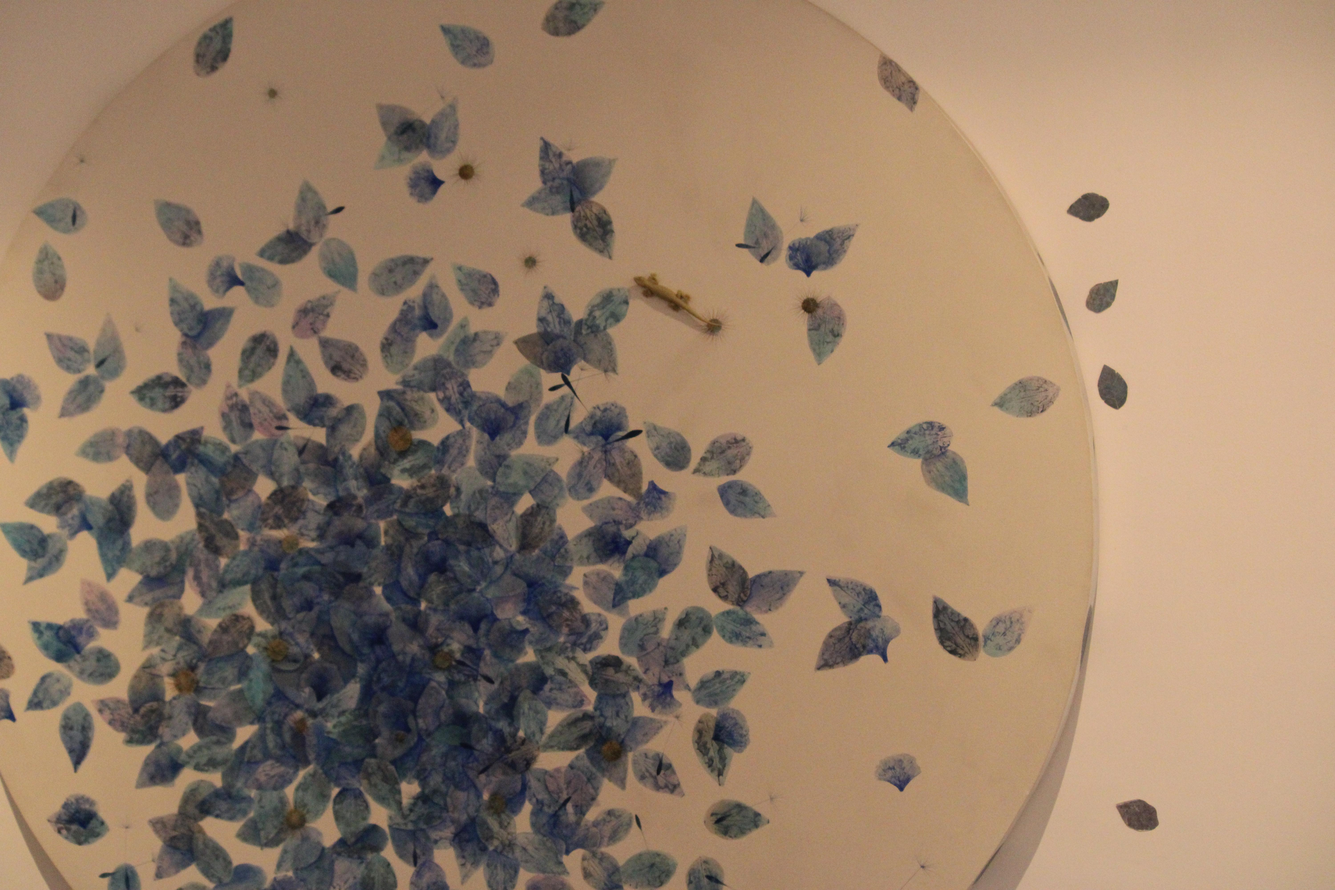lizard: (619, 256, 713, 333)
